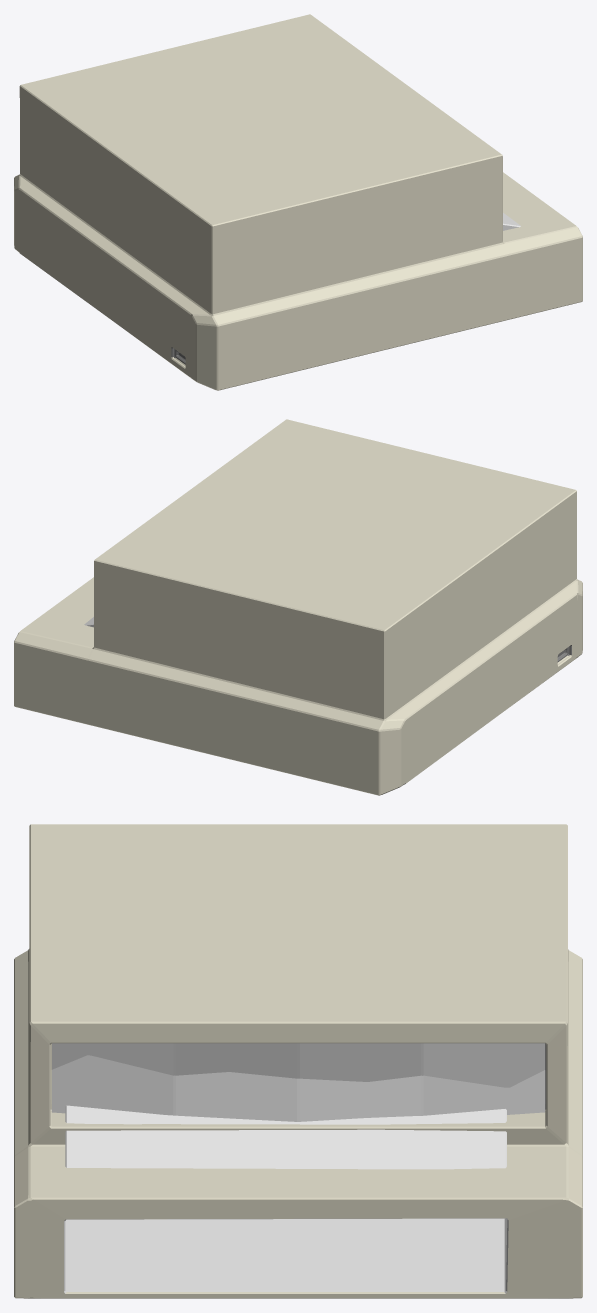
File: RAWOldTVmadePrinter.fbx
3 views of the same model, one above another, from view 1: azimuth 30°, elevation 25°; view 2: azimuth 150°, elevation 25°; view 3: azimuth 270°, elevation 25° (orthographic). The views are drawn at different scales.
Visible parts, largest first — view 1: Cube; view 2: Cube; view 3: Cube.
Boxes of the visible parts, box(x1,y1,x2,y2) form: Cube: box(14, 14, 582, 390); Cube: box(14, 419, 582, 795); Cube: box(14, 824, 582, 1298).
Bounding box in the file's own units: 226 × 92.69 × 211.
